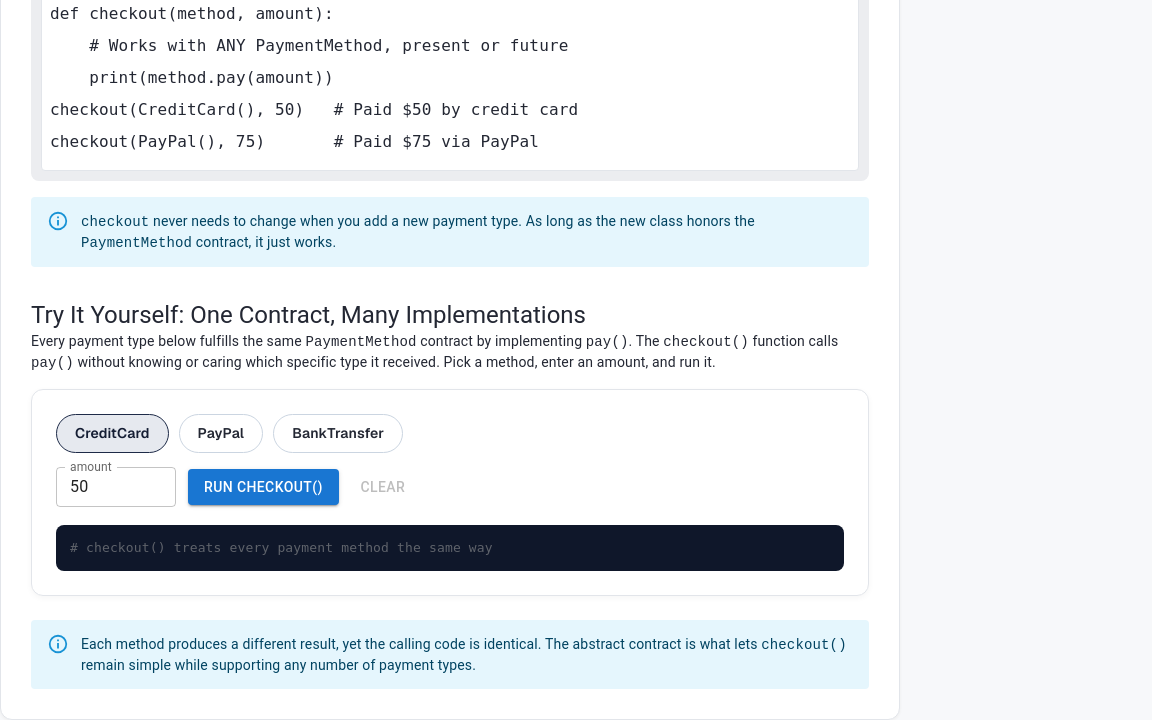
Test: AbstractionConcept › checks out with the default credit card method
(page scrolled)
Click the button "Run checkout()".
click(263, 487)  # box [188, 469, 339, 505]
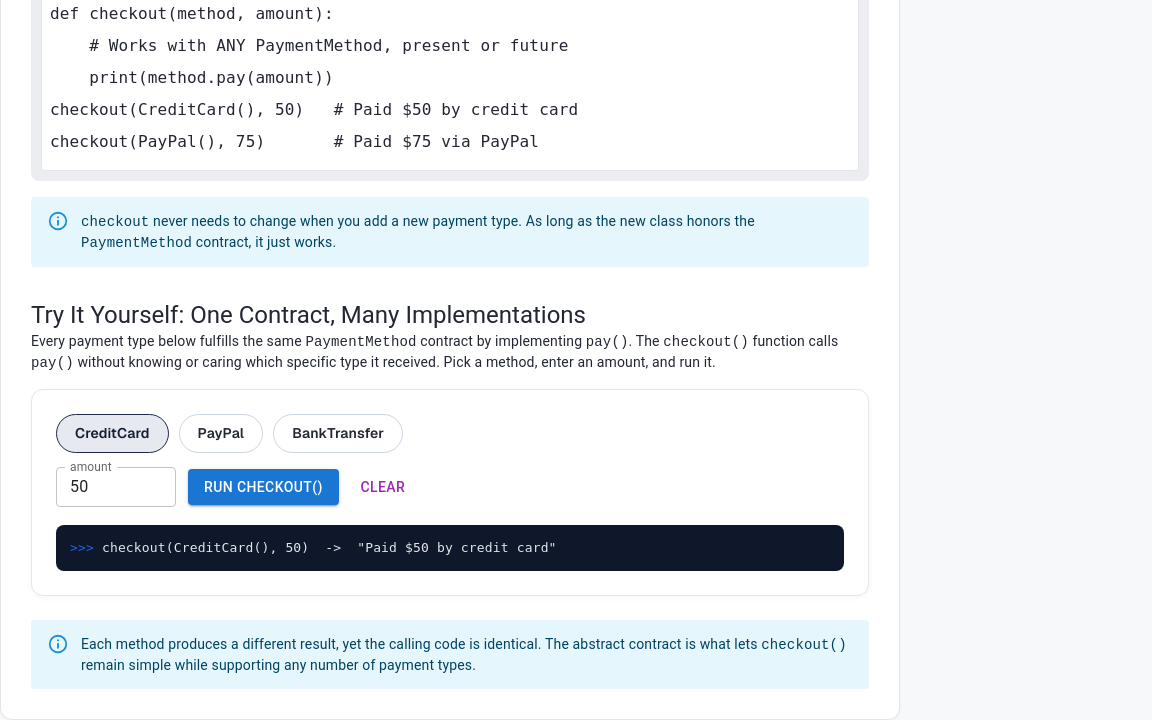
expect the text ">>> checkout(CreditCard(), 50) -> \"Paid $50 by credit card\"" is shown: met, box [70, 540, 557, 555]
